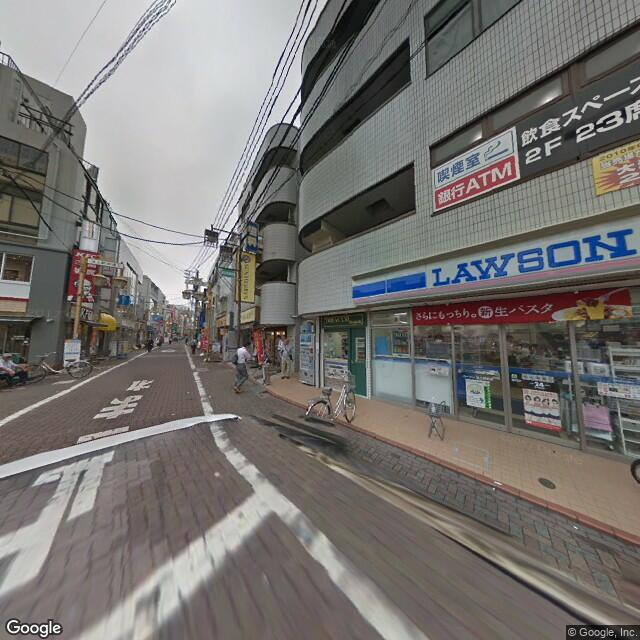lawson: (352, 213, 639, 305)
